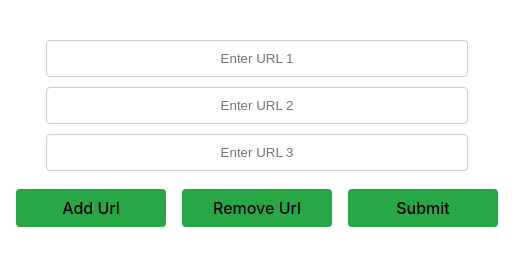
Urls list › Adding a new URL input field when "Add Url" button is clicked
The image size is (515, 267).
Click the button "Add Url" at (91, 208), box left=16, top=188, right=166, bottom=226
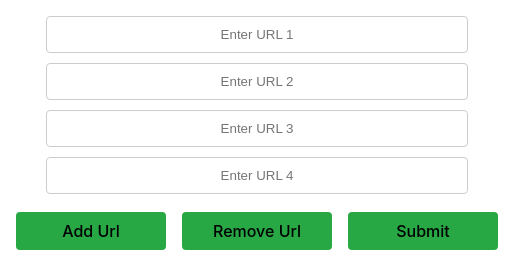
Now the number of fields with placeholder "Enter URL 1" is 4, box left=46, top=16, right=468, bottom=53; left=46, top=63, right=468, bottom=100; left=46, top=110, right=468, bottom=147; left=46, top=157, right=468, bottom=194
